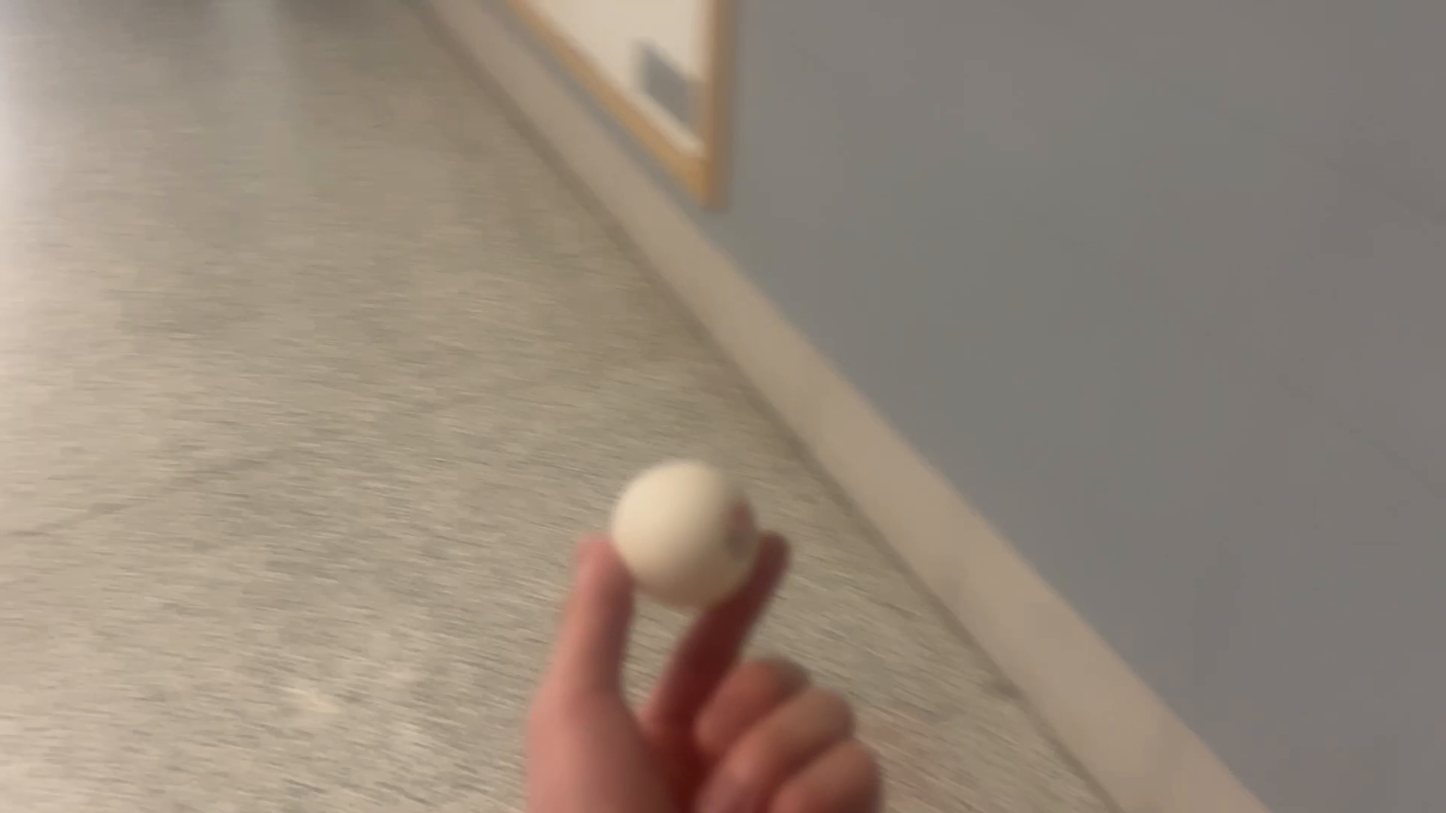Ball: (607, 449, 765, 604)
